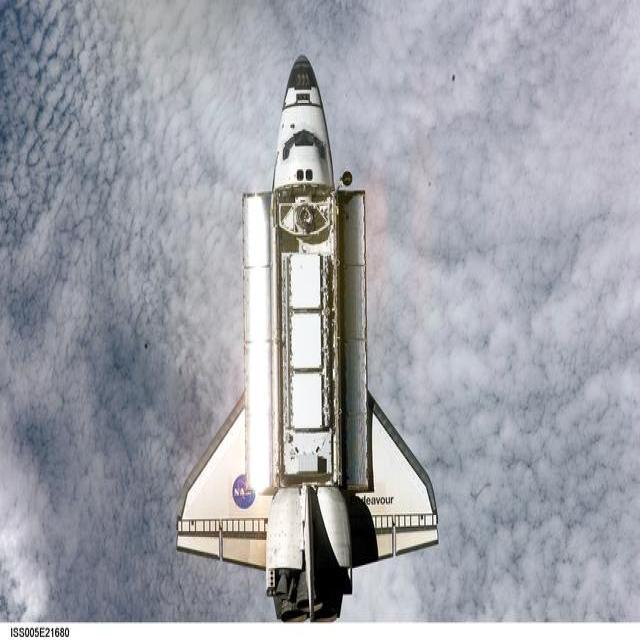satellite: (178, 55, 439, 621)
